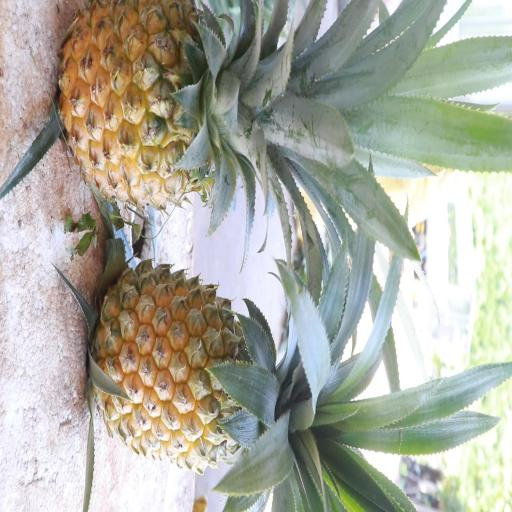Pineapple - v8 v1: (86, 256, 336, 480), (54, 0, 303, 219)
